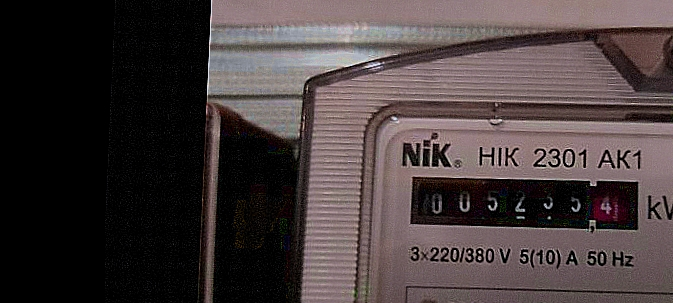0: (428, 189, 445, 215), (457, 188, 473, 213)
2: (512, 187, 529, 214)
3: (539, 185, 557, 211)
4: (596, 188, 616, 218)
5: (567, 185, 584, 214), (485, 187, 500, 212)
screen: (397, 160, 650, 243)
